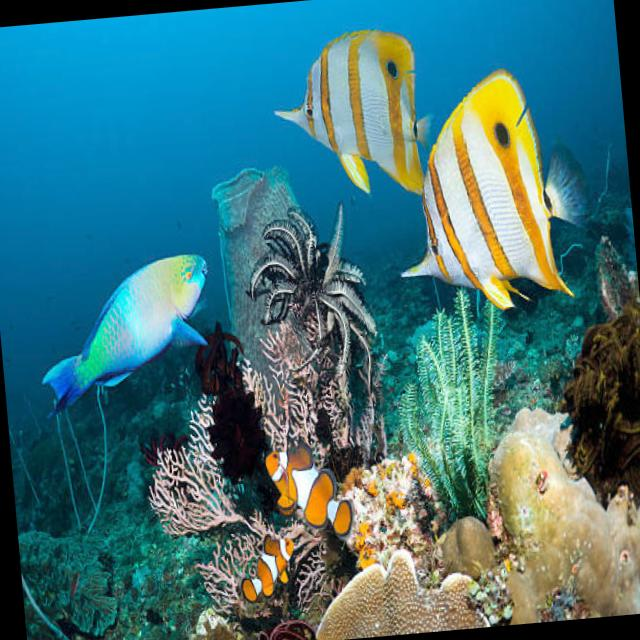ButterflyFish: (386, 71, 592, 306), (268, 27, 434, 208)
ClownFish: (266, 447, 356, 544), (234, 540, 298, 608)
